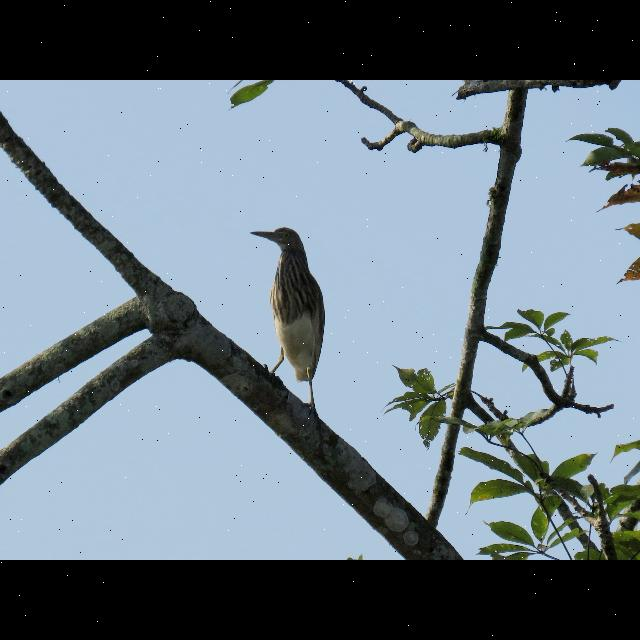heron: (244, 223, 336, 413)
